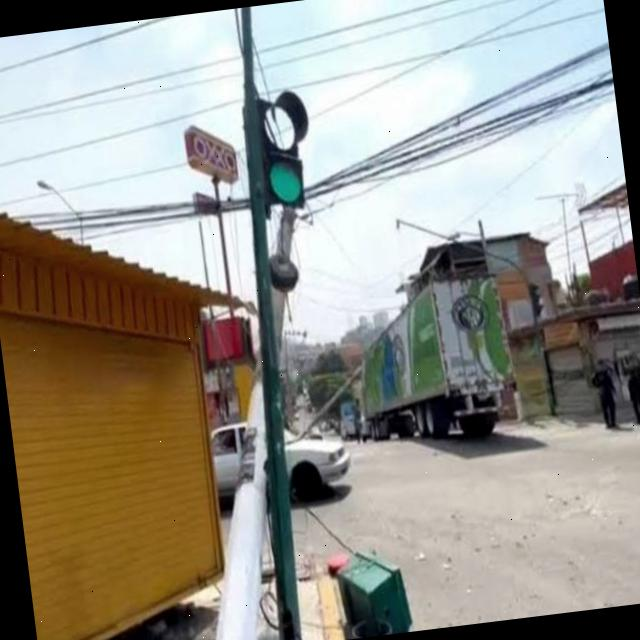Broken Pole: (215, 193, 301, 640)
